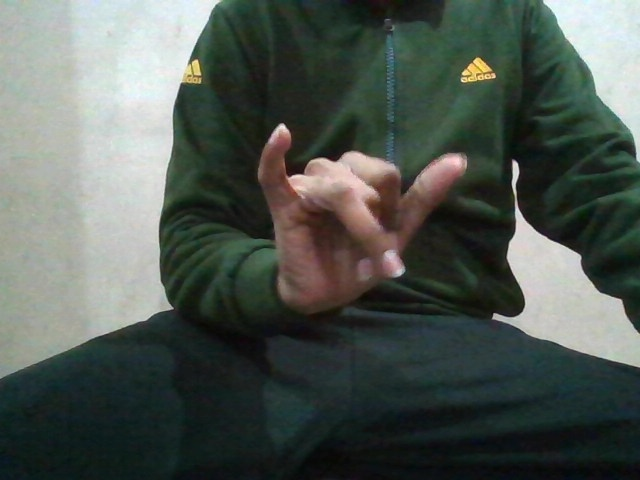Y: (260, 115, 474, 314)
